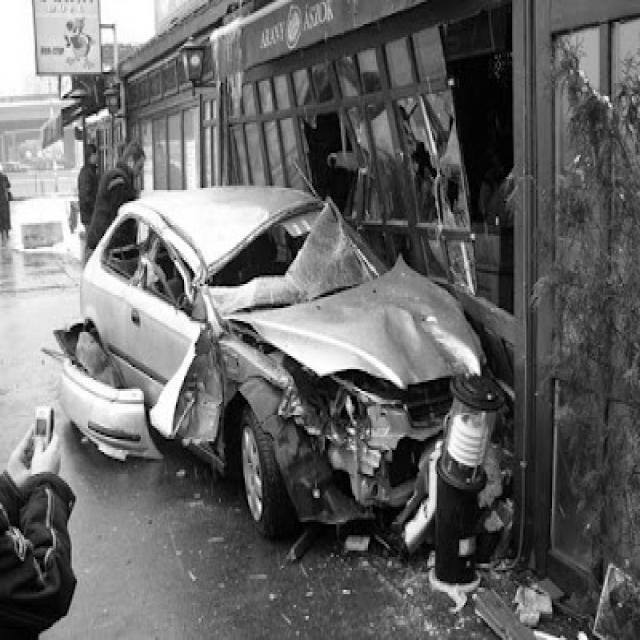crush: (100, 187, 514, 555)
